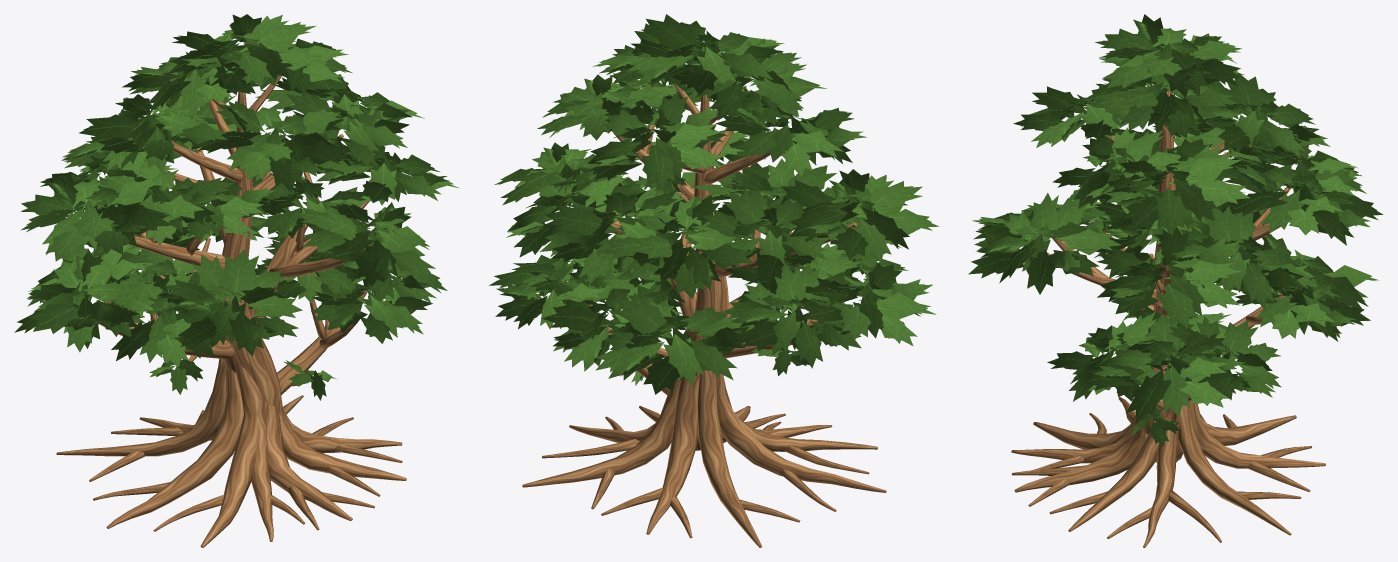
Rendered from WT_MatureTree_LOD0.fbx.
The picture shows the model from 3 angles, left to right: view 1: azimuth 30°, elevation 25°; view 2: azimuth 150°, elevation 25°; view 3: azimuth 270°, elevation 25°; orthographic projection.
Parts seen in each view (by area): view 1: WT_MatureTree_Foliage, WT_MatureTree_Trunk_Branches, WT_MatureTree_Roots; view 2: WT_MatureTree_Foliage, WT_MatureTree_Trunk_Branches, WT_MatureTree_Roots; view 3: WT_MatureTree_Foliage, WT_MatureTree_Roots, WT_MatureTree_Trunk_Branches.
Boxes of the visible parts, x1=… form: WT_MatureTree_Foliage: x1=14, y1=14, x2=459, y2=400; WT_MatureTree_Trunk_Branches: x1=99, y1=75, x2=370, y2=478; WT_MatureTree_Roots: x1=56, y1=395, x2=406, y2=547; WT_MatureTree_Foliage: x1=489, y1=14, x2=939, y2=394; WT_MatureTree_Trunk_Branches: x1=588, y1=83, x2=857, y2=478; WT_MatureTree_Roots: x1=522, y1=406, x2=886, y2=547; WT_MatureTree_Foliage: x1=968, y1=14, x2=1383, y2=446; WT_MatureTree_Roots: x1=1011, y1=397, x2=1325, y2=547; WT_MatureTree_Trunk_Branches: x1=1047, y1=90, x2=1290, y2=483.
Bounding box in the file's own units: 9.32 × 9.19 × 7.95.
Materials: 3 (3 with a texture image).
